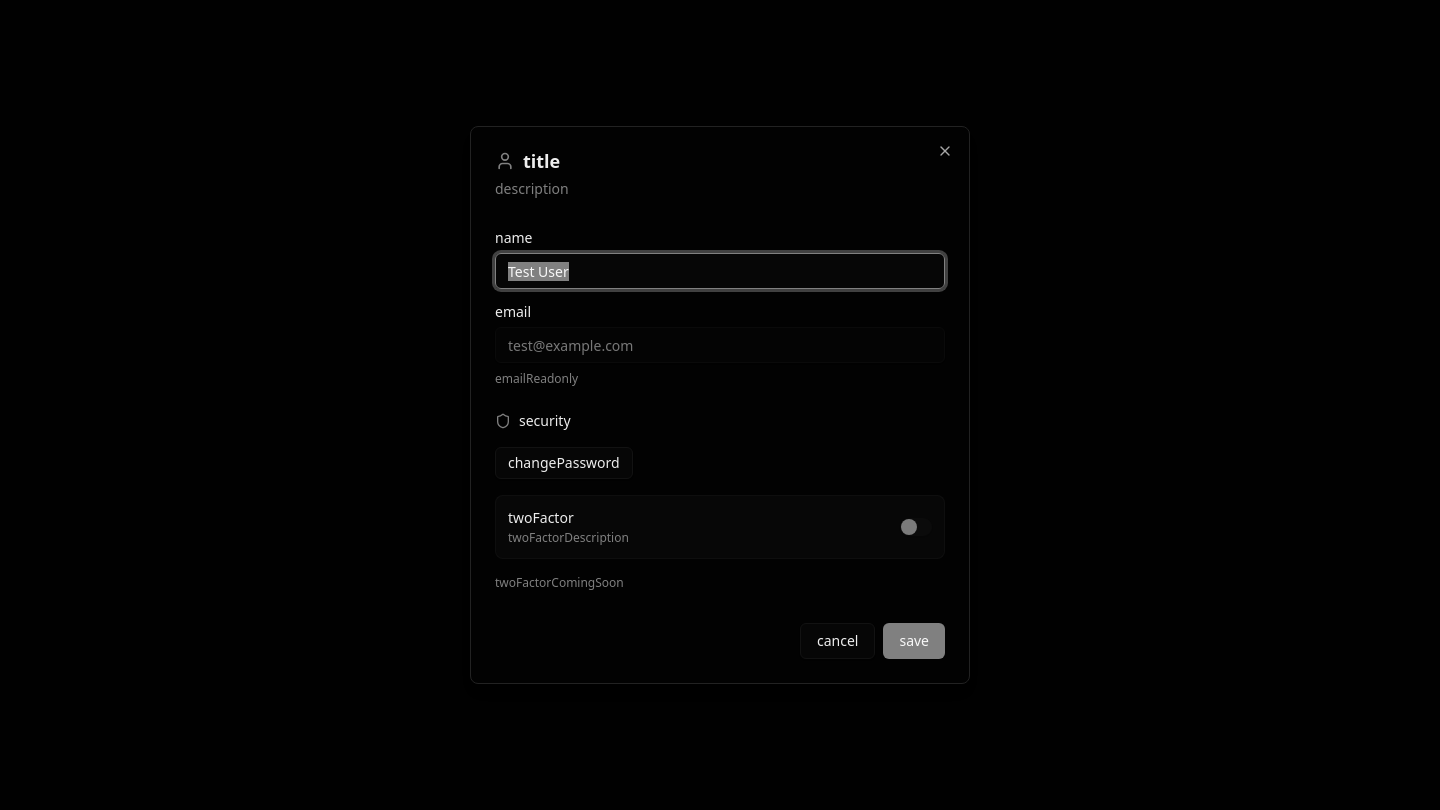
Test: ProfileDialog › should show password form when change password is clicked
The image size is (1440, 810).
Click the button "changePassword": (564, 463) [495,447,633,479]
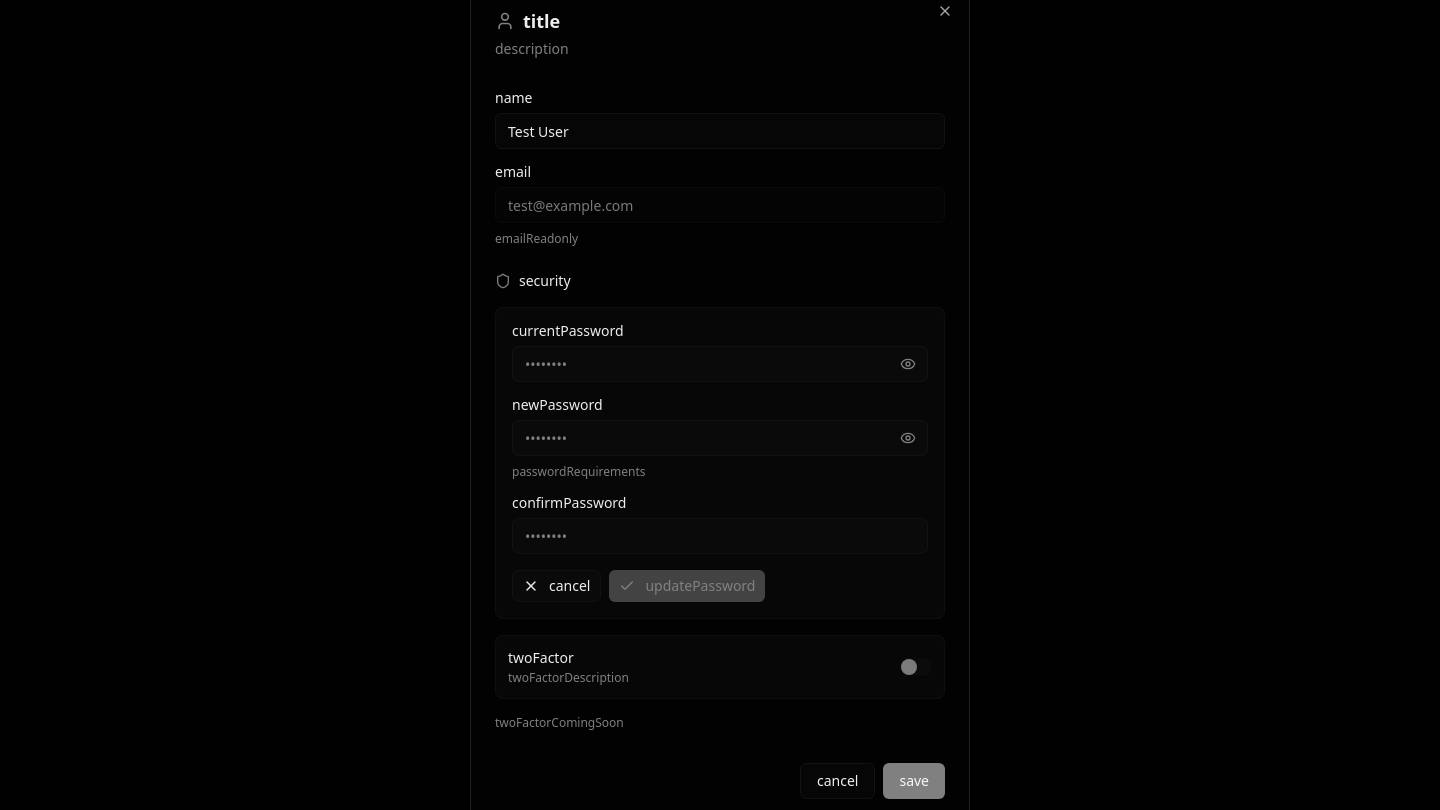
Now the text "currentPassword" is shown, box [512,321,624,340]
Now the text "newPassword" is shown, box [512,395,603,414]
Now the text "confirmPassword" is shown, box [512,493,626,512]
